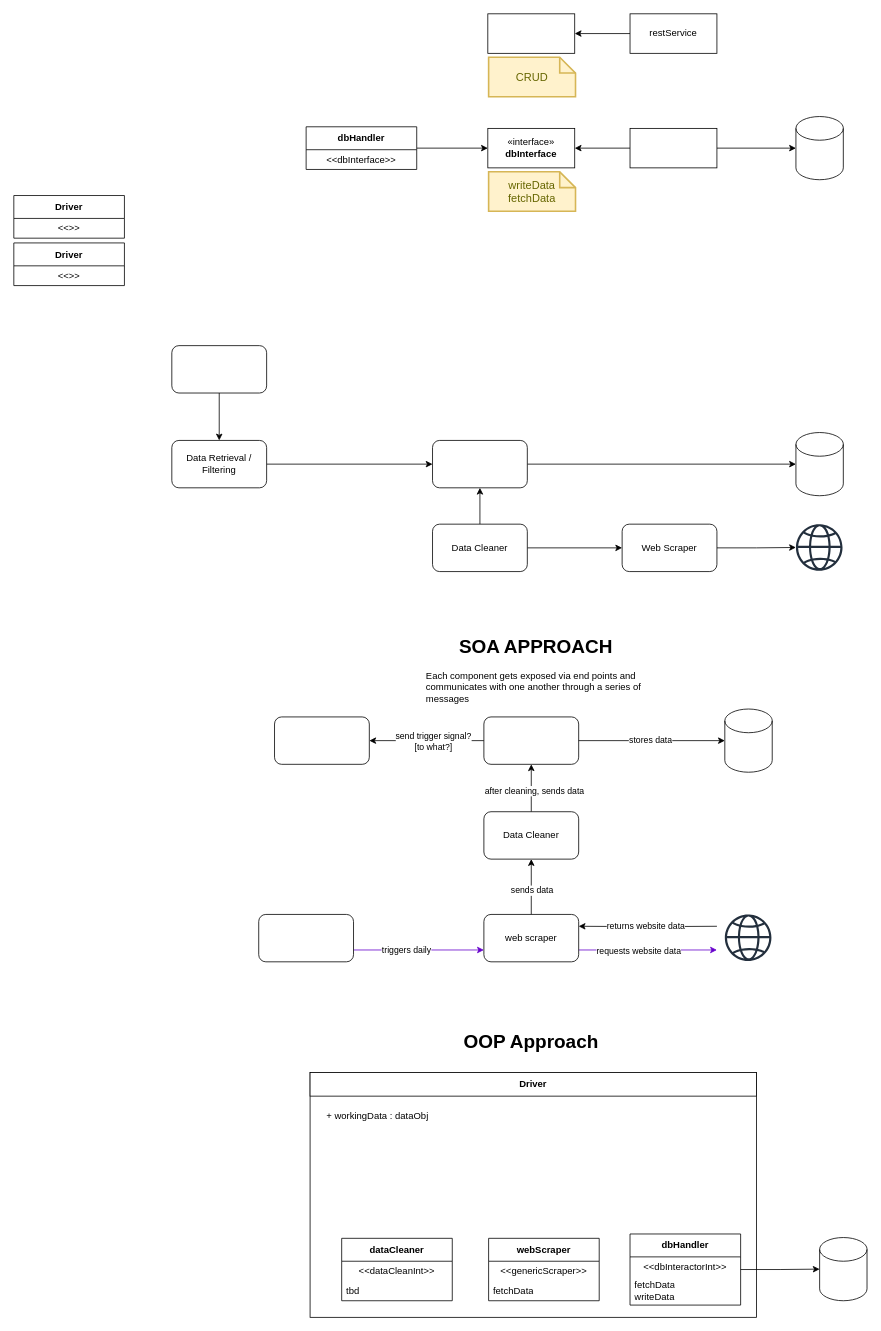
Some shapes in this 881 by 1331 pixel diagram are drawn without their labels. The centre of each missing label's shape, as x and y in pixels:
Backend: point (219, 369)
Data Storage: point (531, 740)
Data Storage / Access: point (479, 464)
dbInteractor: point (673, 148)
timer: point (306, 938)
«interface» webService: point (531, 33)
